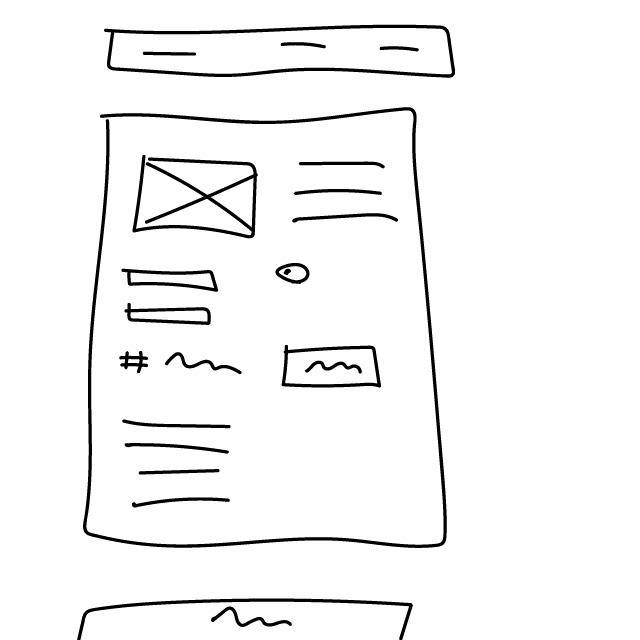button: (276, 342, 390, 397)
checkbox: (274, 261, 315, 288)
container: (73, 100, 463, 563)
footer: (72, 593, 426, 640)
frame: (132, 153, 264, 245)
heading: (116, 345, 251, 386)
input: (122, 262, 224, 298), (121, 301, 223, 329)
nav: (100, 24, 468, 85)
text: (111, 411, 243, 517), (280, 153, 407, 233)
